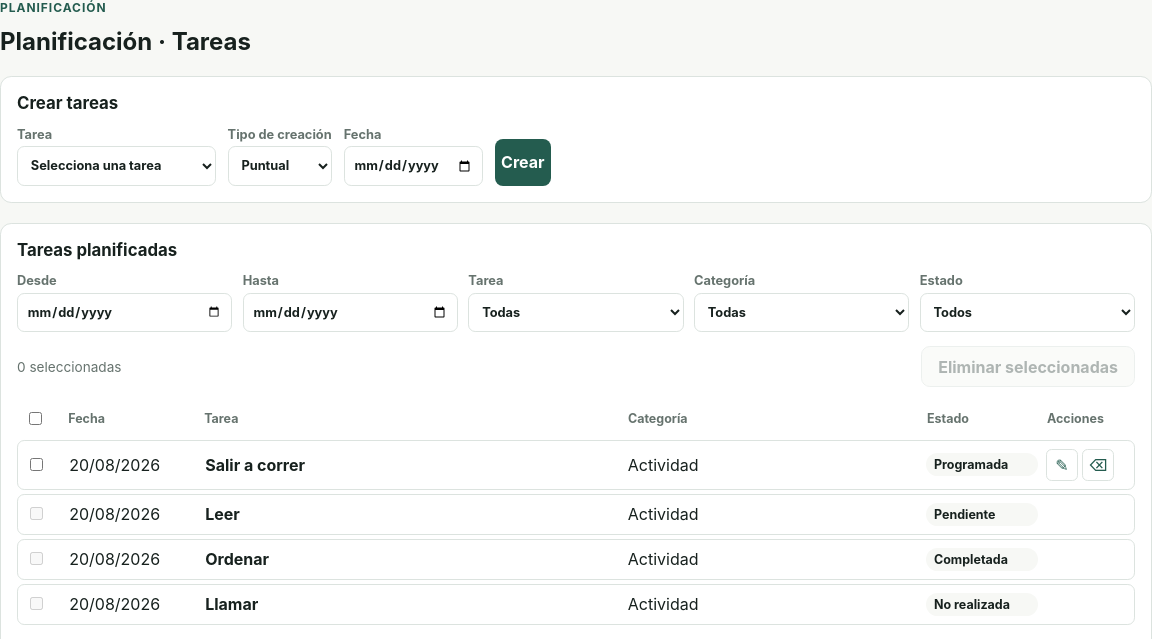
Test case: PlanningTasksPage › closes stale date editing after a failed update
Click the button named "Editar fecha de Salir a correr" at (1062, 465), box top-left (1046, 449), bottom-right (1078, 481)
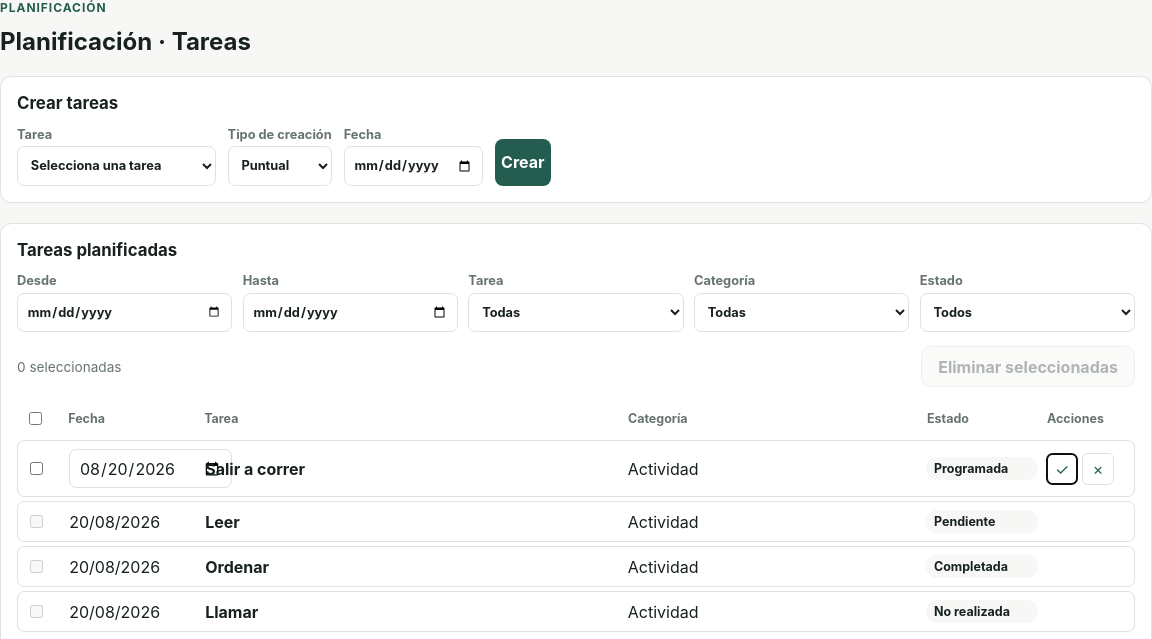
Click the button named "Guardar fecha de Salir a correr" at (1062, 468), box top-left (1046, 452), bottom-right (1078, 484)
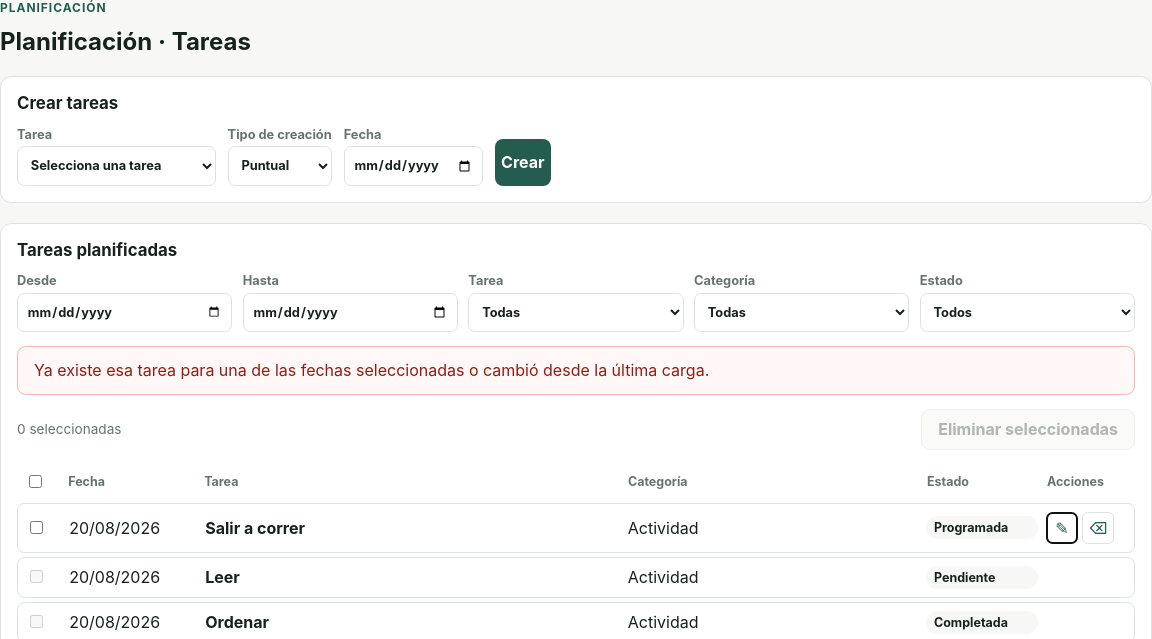
Result: the message shows "cambió desde la última carga" at top-left (34, 360), bottom-right (709, 380)
Result: the button named "Editar fecha de Salir a correr" is shown at top-left (1046, 512), bottom-right (1078, 544)
